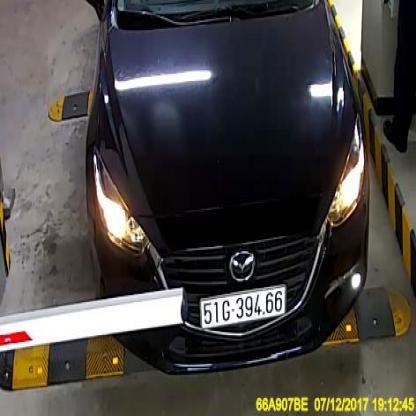biensoxe: (201, 284, 286, 330)
